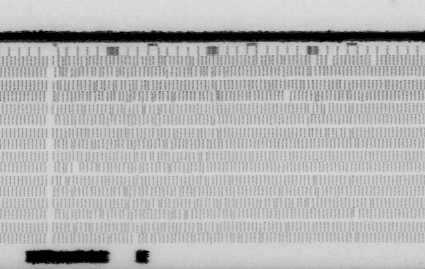Broken hole: (308, 55, 320, 68), (324, 55, 336, 68), (70, 162, 83, 174), (282, 90, 293, 103), (369, 55, 380, 67), (130, 234, 141, 246)
Oblique printing: (49, 56, 222, 150), (196, 150, 214, 174), (307, 173, 322, 199), (176, 207, 191, 220), (343, 126, 356, 140), (251, 232, 266, 244), (205, 231, 217, 246), (151, 196, 164, 209), (349, 207, 361, 221), (116, 184, 130, 196), (59, 175, 73, 187), (320, 101, 332, 115), (93, 207, 108, 218), (160, 162, 173, 174), (67, 222, 79, 235), (309, 89, 321, 101), (279, 220, 291, 232)
